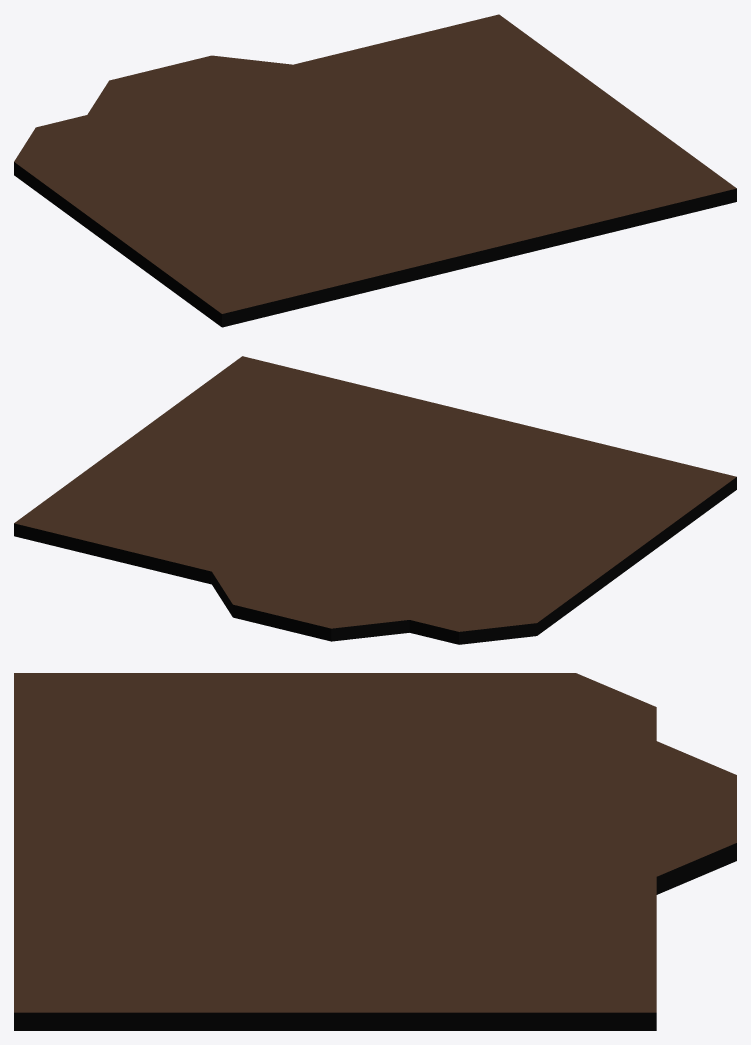
File: Floor_Room_3.fbx
The picture shows the model from 3 angles, top to bottom: view 1: azimuth 30°, elevation 25°; view 2: azimuth 150°, elevation 25°; view 3: azimuth 270°, elevation 25°; orthographic projection. The views are drawn at different scales.
Parts seen in each view (by area): view 1: Floor_Room_3; view 2: Floor_Room_3; view 3: Floor_Room_3.
Boxes of the visible parts, <box> form: Floor_Room_3: <box>14,14,736,327</box>; Floor_Room_3: <box>14,356,736,644</box>; Floor_Room_3: <box>14,673,736,1030</box>.
Size of the model in its own units: 9 by 10 by 0.25.
